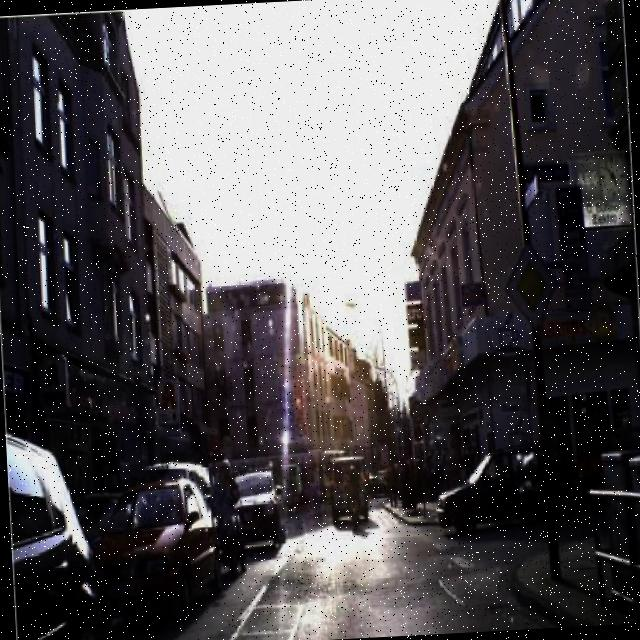Ograniczenie predkosci do 30: (408, 398, 428, 426)
